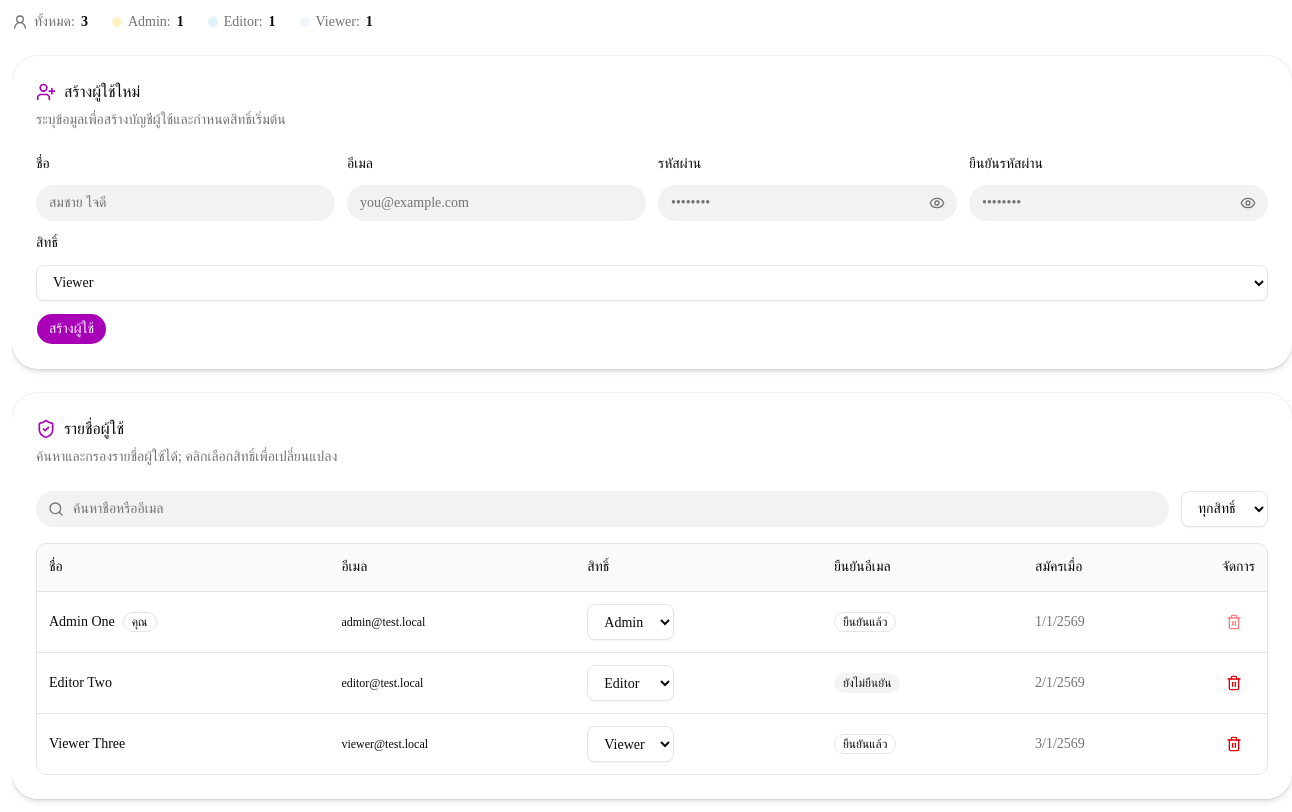
Test: AdminClient — search & filter › filters by role via the filter select
Select "Admin" in the dropdown named "กรองตามสิทธิ์": (1224, 508) [1181,490,1268,526]
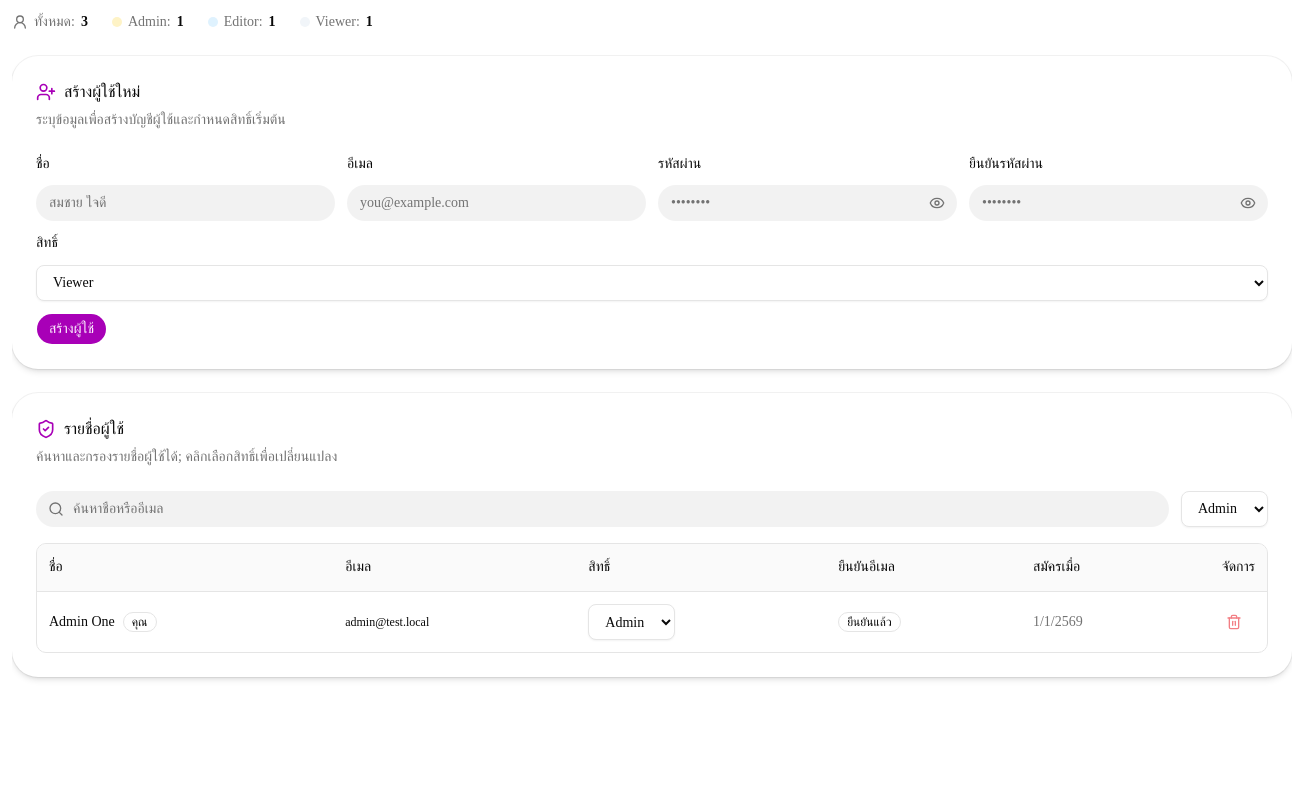
Expected: the text "admin@test.local" is shown, [333,592,576,652]
Expected: the text "editor@test.local" is gone
Expected: the text "viewer@test.local" is gone
